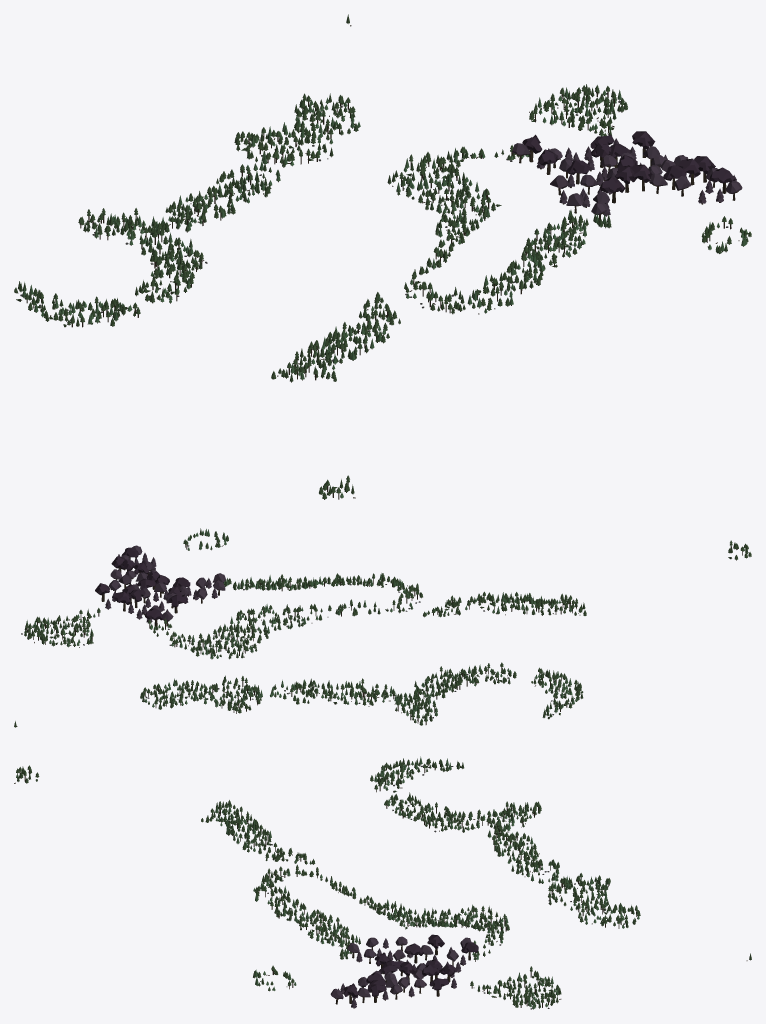
Rendered from Trees.glb.
The picture shows the model from 3 angles, top to bottom: view 1: azimuth 30°, elevation 25°; view 2: azimuth 150°, elevation 25°; view 3: azimuth 270°, elevation 25°; orthographic projection. The views are drawn at different scales.
Visible parts, largest first — view 1: 5_Forest; view 2: 5_Forest; view 3: 5_Forest.
Boxes of the visible parts, x1,y1,x2,y2 form: 5_Forest: (14,14,751,499); 5_Forest: (14,528,751,727); 5_Forest: (14,756,751,1009).
Bounding box in the file's own units: 140 × 6.9 × 179.
